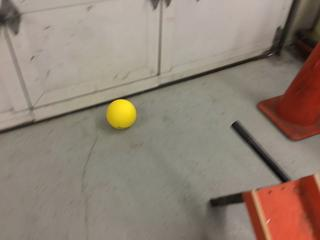power_cell: (104, 98, 139, 131)
